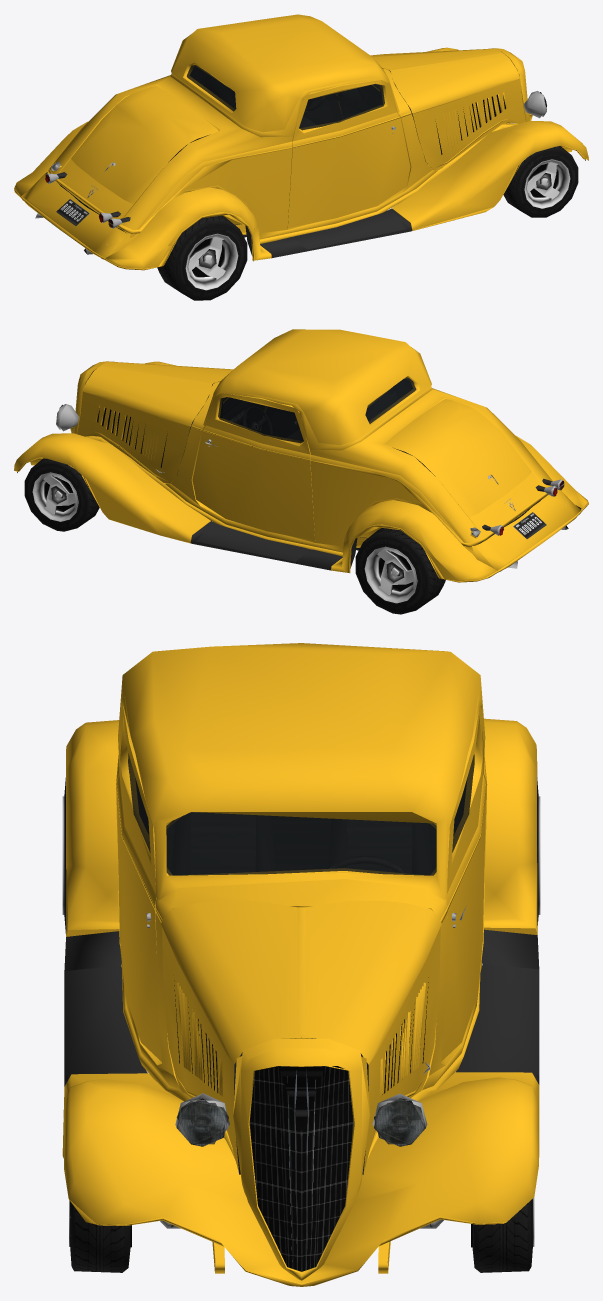
Rendered from scene.lite.glb.
3 renders of one model, top to bottom at view 1: azimuth 30°, elevation 25°; view 2: azimuth 150°, elevation 25°; view 3: azimuth 270°, elevation 25°, orthographic. The views are drawn at different scales.
Visible parts, largest first — view 1: HOTROD_33A_body_HOTROD_33_bodymat_0, HOTROD_33_WheelBlades_FL_RB1c_Tire_1k_0, HOTROD_33A_hoodStock_inner_UCB_BOTTOM_0, HOTROD_33A_Rear_window_UCB_Lights_and_Glass_Transperent_0, HOTROD_33A_interior_UCB_Interiors_2_0, HOTROD_33B_Numberplate_Numberplates_Misk_U_0; view 2: HOTROD_33A_body_HOTROD_33_bodymat_0, HOTROD_33_WheelBlades_FL_RB1c_Tire_1k_0, HOTROD_33A_hoodStock_inner_UCB_BOTTOM_0, HOTROD_33A_Rear_window_UCB_Lights_and_Glass_Transperent_0, HOTROD_33A_interior_UCB_Interiors_2_0, HOTROD_33B_Numberplate_Numberplates_Misk_U_0; view 3: HOTROD_33A_body_HOTROD_33_bodymat_0, HOTROD_33A_hoodStock_inner_UCB_BOTTOM_0, HOTROD_33A_Rear_window_UCB_Lights_and_Glass_Transperent_0, HOTROD_33A_interior_UCB_Interiors_2_0, HOTROD_33_WheelBlades_FL_RB1c_Tire_1k_0, HOTROD_33A_Brakelights_UCB_Lights_and_Glass_0.
Boxes of the visible parts, box(x1,y1,x2,y2) form: HOTROD_33A_body_HOTROD_33_bodymat_0: box(14, 14, 588, 270); HOTROD_33_WheelBlades_FL_RB1c_Tire_1k_0: box(157, 146, 578, 300); HOTROD_33A_hoodStock_inner_UCB_BOTTOM_0: box(22, 60, 585, 261); HOTROD_33A_Rear_window_UCB_Lights_and_Glass_Transperent_0: box(186, 65, 546, 130); HOTROD_33A_interior_UCB_Interiors_2_0: box(190, 67, 382, 127); HOTROD_33B_Numberplate_Numberplates_Misk_U_0: box(56, 199, 89, 225); HOTROD_33A_body_HOTROD_33_bodymat_0: box(14, 329, 588, 582); HOTROD_33_WheelBlades_FL_RB1c_Tire_1k_0: box(24, 458, 445, 614); HOTROD_33A_hoodStock_inner_UCB_BOTTOM_0: box(17, 369, 581, 571); HOTROD_33A_Rear_window_UCB_Lights_and_Glass_Transperent_0: box(56, 377, 416, 443); HOTROD_33A_interior_UCB_Interiors_2_0: box(220, 378, 412, 440); HOTROD_33B_Numberplate_Numberplates_Misk_U_0: box(513, 512, 546, 539); HOTROD_33A_body_HOTROD_33_bodymat_0: box(62, 643, 539, 1286); HOTROD_33A_hoodStock_inner_UCB_BOTTOM_0: box(64, 906, 539, 1271); HOTROD_33A_Rear_window_UCB_Lights_and_Glass_Transperent_0: box(128, 753, 474, 1144); HOTROD_33A_interior_UCB_Interiors_2_0: box(136, 781, 466, 874); HOTROD_33_WheelBlades_FL_RB1c_Tire_1k_0: box(62, 777, 540, 1272); HOTROD_33A_Brakelights_UCB_Lights_and_Glass_0: box(176, 1098, 425, 1146).
Size of the model in its own units: 4.26 by 1.54 by 1.79.
Materials: 8 (7 with a texture image).
